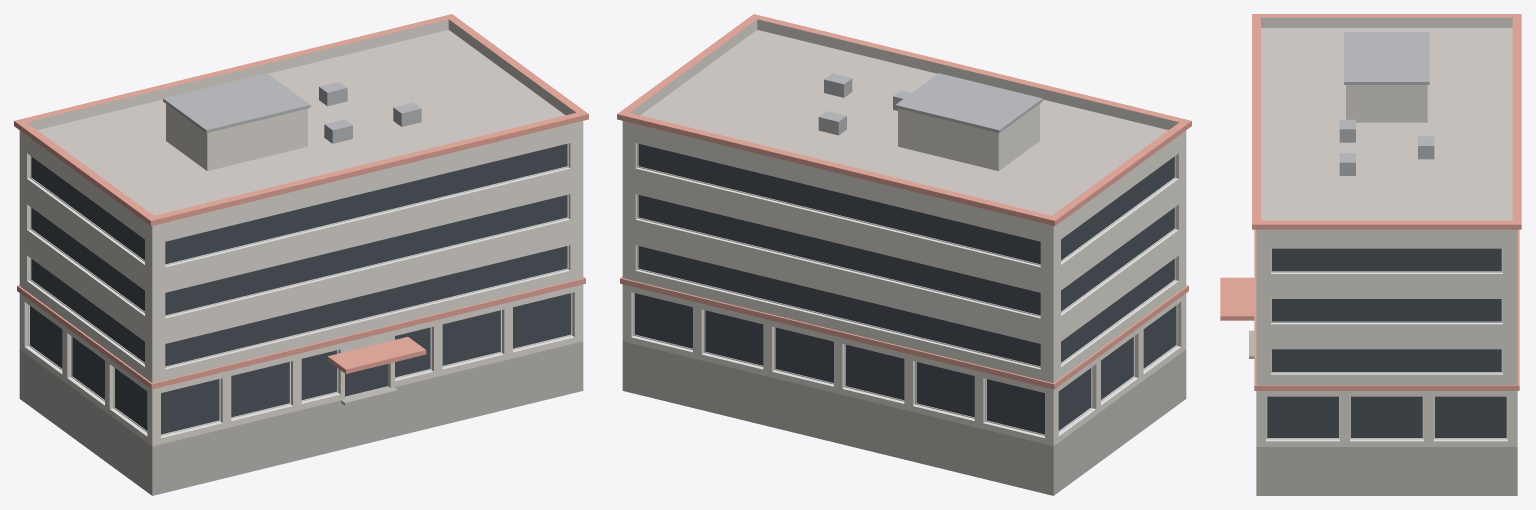
File: office_4_l.glb
3 views of the same model, side by side, from view 1: azimuth 30°, elevation 25°; view 2: azimuth 150°, elevation 25°; view 3: azimuth 270°, elevation 25° (orthographic).
Parts seen in each view (by area): view 1: office_4_l; view 2: office_4_l; view 3: office_4_l.
Part boxes in pixels (<box>): office_4_l: <box>14,14,588,495</box>; office_4_l: <box>617,14,1191,495</box>; office_4_l: <box>1220,14,1521,495</box>.
Size of the model in its own units: 30.5 by 20.55 by 18.45.
